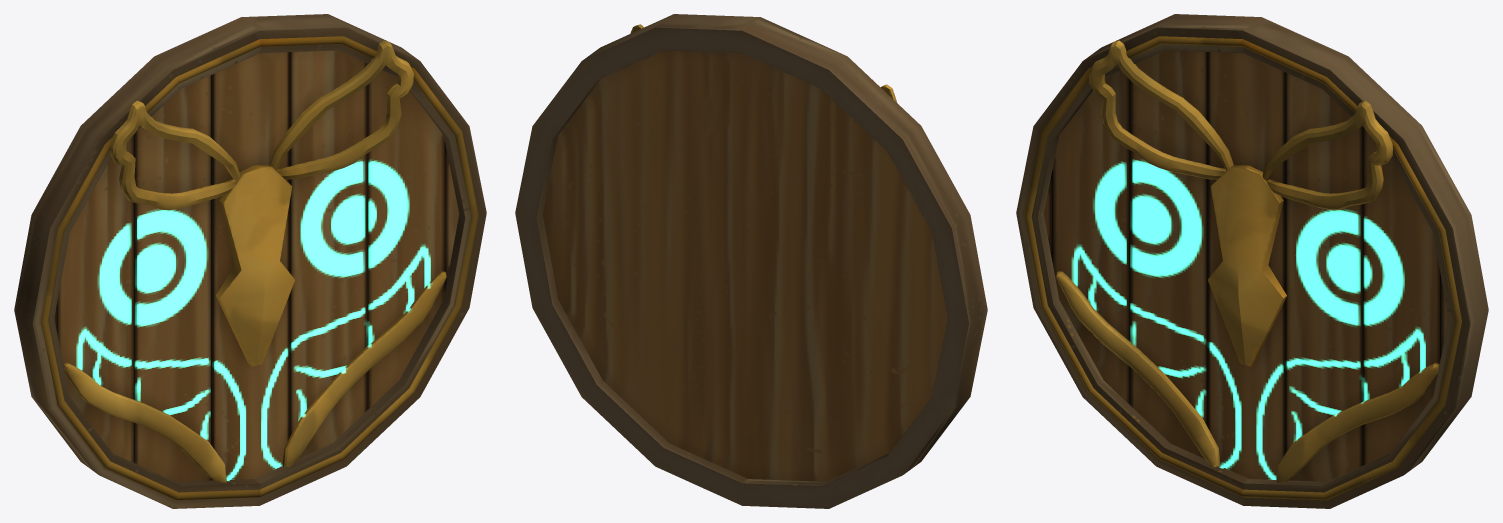
Rendered from E06_Seema_v01.fbx.
The picture shows the model from 3 angles, left to right: view 1: azimuth 30°, elevation 25°; view 2: azimuth 150°, elevation 25°; view 3: azimuth 330°, elevation 25°; orthographic projection.
Visible parts, largest first — view 1: pCylinder1, pCube2, pPlane1, pTorus1, pPlane2; view 2: pCylinder1; view 3: pCylinder1, pCube2, pPlane1, pTorus1, pPlane2.
Boxes of the visible parts, <box> form: pCylinder1: <box>14,14,486,508</box>; pCube2: <box>216,165,294,366</box>; pPlane1: <box>110,40,413,209</box>; pTorus1: <box>41,36,478,500</box>; pPlane2: <box>63,271,446,482</box>; pCylinder1: <box>515,14,987,508</box>; pCylinder1: <box>1016,14,1488,508</box>; pCube2: <box>1208,165,1286,366</box>; pPlane1: <box>1089,40,1392,209</box>; pTorus1: <box>1024,36,1461,500</box>; pPlane2: <box>1056,271,1439,482</box>.
Bounding box in the file's own units: 2.65 × 2.65 × 0.2428.
1 material, 1 textured.
